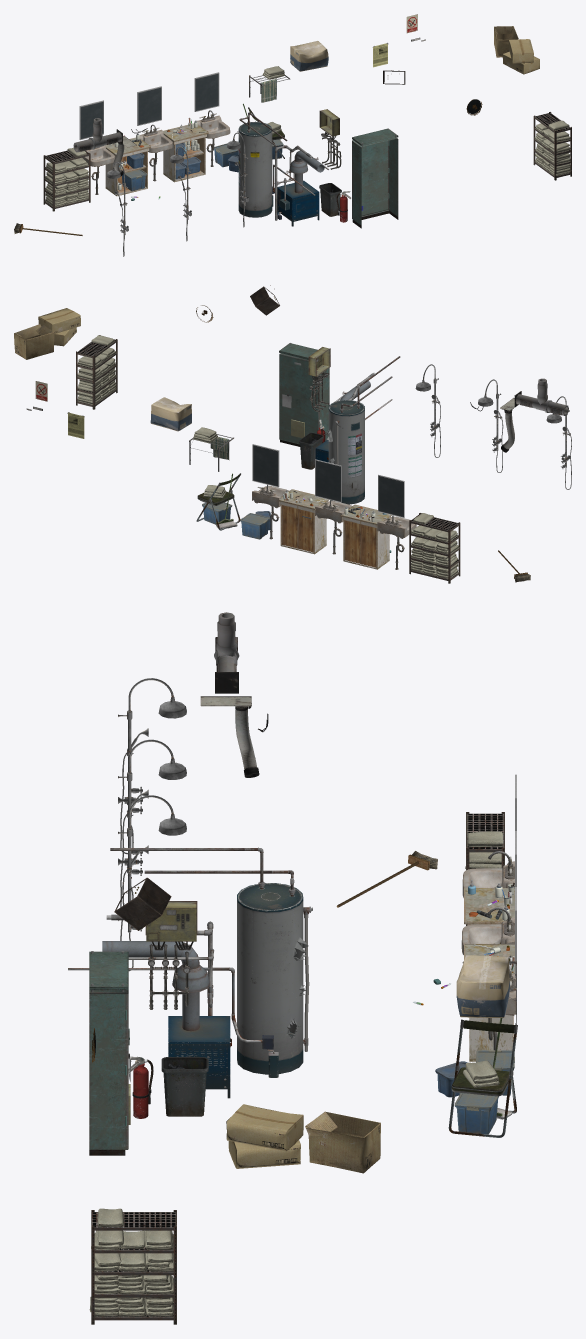
The model's file is sm301_01_403room_00.fbx.
3 renders of one model, top to bottom at view 1: azimuth 30°, elevation 25°; view 2: azimuth 150°, elevation 25°; view 3: azimuth 270°, elevation 25°, orthographic. The views are drawn at different scales.
Parts seen in each view (by area): view 1: 0127_sm22065Boiler02A00ms_1_Group_0_Sub_1__sm22_023_Boi_d06b, 0049_sm22021SwitchBox03A00ms_1_Group_0_Sub_1__sm22_021__cfdd, 0031_sm39049SteelRackSet01A00ms_1_Group_0_Sub_1__sm36_0_c9d2, 0128_sm30211Mirror01A00ms_1_Group_0_Sub_1__sm30_211_Mir_0ba9, 0063_sm30105KitchenStorage01B00ms_1_Group_0_Sub_1__sm30_2963, 0047_sm30091Steelrack01A00ms_1_Group_0_Sub_1__sm30_091__18cd, 0045_sm30089WashStand01A00ms_1_Group_0_Sub_1__sm30_089__a9ec, 0048_sm31030ShowerBath01A00ms_1_Group_0_Sub_1__sm31_030_9f4f, 0101_sm36003Cardboard02A00ms_1_Group_0_Sub_1__sm36_003__20c4, 0125_sm36004Cardboard03A00ms_1_Group_0_Sub_1__sm36_004__7cc7, 0035_sm30071Dustbox01A00ms_1_Group_0_Sub_1__sm30_071_Du_9d55, 0126_sm36002Cardboard01A00ms_1_Group_0_Sub_1__sm36_002__50cb (+8 smaller); view 2: 0063_sm30105KitchenStorage01B00ms_1_Group_0_Sub_1__sm30_2963, 0127_sm22065Boiler02A00ms_1_Group_0_Sub_1__sm22_023_Boi_d06b, 0049_sm22021SwitchBox03A00ms_1_Group_0_Sub_1__sm22_021__cfdd, 0031_sm39049SteelRackSet01A00ms_1_Group_0_Sub_1__sm36_0_c9d2, 0128_sm30211Mirror01A00ms_1_Group_0_Sub_1__sm30_211_Mir_0ba9, 0047_sm30091Steelrack01A00ms_1_Group_0_Sub_1__sm30_091__18cd, 0045_sm30089WashStand01A00ms_1_Group_0_Sub_1__sm30_089__a9ec, 0048_sm31030ShowerBath01A00ms_1_Group_0_Sub_1__sm31_030_9f4f, 0126_sm36002Cardboard01A00ms_1_Group_0_Sub_1__sm36_002__50cb, 0101_sm36003Cardboard02A00ms_1_Group_0_Sub_1__sm36_003__20c4, 0042_sm30074PlasticBox01A00ms_1_Group_0_Sub_1__sm30_074_9cb3, 0125_sm36004Cardboard03A00ms_1_Group_0_Sub_1__sm36_004__7cc7 (+6 smaller); view 3: 0127_sm22065Boiler02A00ms_1_Group_0_Sub_1__sm22_023_Boi_d06b, 0049_sm22021SwitchBox03A00ms_1_Group_0_Sub_1__sm22_021__cfdd, 0031_sm39049SteelRackSet01A00ms_1_Group_0_Sub_1__sm36_0_c9d2, 0047_sm30091Steelrack01A00ms_1_Group_0_Sub_1__sm30_091__18cd, 0125_sm36004Cardboard03A00ms_1_Group_0_Sub_1__sm36_004__7cc7, 0048_sm31030ShowerBath01A00ms_1_Group_0_Sub_1__sm31_030_9f4f, 0126_sm36002Cardboard01A00ms_1_Group_0_Sub_1__sm36_002__50cb, 0101_sm36003Cardboard02A00ms_1_Group_0_Sub_1__sm36_003__20c4, 0063_sm30105KitchenStorage01B00ms_1_Group_0_Sub_1__sm30_2963, 0045_sm30089WashStand01A00ms_1_Group_0_Sub_1__sm30_089__a9ec, 0035_sm30071Dustbox01A00ms_1_Group_0_Sub_1__sm30_071_Du_9d55, 0042_sm30074PlasticBox01A00ms_1_Group_0_Sub_1__sm30_074_9cb3 (+5 smaller).
Boxes of the visible parts, box(x1,y1,x2,y2) form: 0127_sm22065Boiler02A00ms_1_Group_0_Sub_1__sm22_023_Boi_d06b: box(237, 112, 328, 226); 0049_sm22021SwitchBox03A00ms_1_Group_0_Sub_1__sm22_021__cfdd: box(352, 128, 398, 228); 0031_sm39049SteelRackSet01A00ms_1_Group_0_Sub_1__sm36_0_c9d2: box(44, 120, 571, 206); 0128_sm30211Mirror01A00ms_1_Group_0_Sub_1__sm30_211_Mir_0ba9: box(79, 72, 219, 139); 0063_sm30105KitchenStorage01B00ms_1_Group_0_Sub_1__sm30_2963: box(105, 123, 208, 196); 0047_sm30091Steelrack01A00ms_1_Group_0_Sub_1__sm30_091__18cd: box(43, 112, 571, 211); 0045_sm30089WashStand01A00ms_1_Group_0_Sub_1__sm30_089__a9ec: box(82, 110, 230, 194); 0048_sm31030ShowerBath01A00ms_1_Group_0_Sub_1__sm31_030_9f4f: box(106, 132, 248, 256); 0101_sm36003Cardboard02A00ms_1_Group_0_Sub_1__sm36_003__20c4: box(290, 41, 328, 71); 0125_sm36004Cardboard03A00ms_1_Group_0_Sub_1__sm36_004__7cc7: box(502, 39, 539, 74); 0035_sm30071Dustbox01A00ms_1_Group_0_Sub_1__sm30_071_Du_9d55: box(319, 183, 341, 216); 0126_sm36002Cardboard01A00ms_1_Group_0_Sub_1__sm36_002__50cb: box(494, 26, 518, 57); 0063_sm30105KitchenStorage01B00ms_1_Group_0_Sub_1__sm30_2963: box(279, 489, 391, 569); 0127_sm22065Boiler02A00ms_1_Group_0_Sub_1__sm22_023_Boi_d06b: box(315, 356, 400, 504); 0049_sm22021SwitchBox03A00ms_1_Group_0_Sub_1__sm22_021__cfdd: box(279, 343, 329, 446); 0031_sm39049SteelRackSet01A00ms_1_Group_0_Sub_1__sm36_0_c9d2: box(77, 335, 459, 578); 0128_sm30211Mirror01A00ms_1_Group_0_Sub_1__sm30_211_Mir_0ba9: box(252, 444, 404, 517); 0047_sm30091Steelrack01A00ms_1_Group_0_Sub_1__sm30_091__18cd: box(76, 335, 460, 583); 0045_sm30089WashStand01A00ms_1_Group_0_Sub_1__sm30_089__a9ec: box(252, 484, 416, 569); 0048_sm31030ShowerBath01A00ms_1_Group_0_Sub_1__sm31_030_9f4f: box(415, 364, 571, 489); 0126_sm36002Cardboard01A00ms_1_Group_0_Sub_1__sm36_002__50cb: box(14, 324, 54, 359); 0101_sm36003Cardboard02A00ms_1_Group_0_Sub_1__sm36_003__20c4: box(150, 397, 191, 431); 0042_sm30074PlasticBox01A00ms_1_Group_0_Sub_1__sm30_074_9cb3: box(202, 502, 269, 539); 0125_sm36004Cardboard03A00ms_1_Group_0_Sub_1__sm36_004__7cc7: box(38, 308, 80, 346); 0127_sm22065Boiler02A00ms_1_Group_0_Sub_1__sm22_023_Boi_d06b: box(68, 847, 312, 1098); 0049_sm22021SwitchBox03A00ms_1_Group_0_Sub_1__sm22_021__cfdd: box(89, 951, 131, 1155); 0031_sm39049SteelRackSet01A00ms_1_Group_0_Sub_1__sm36_0_c9d2: box(89, 831, 503, 1316); 0047_sm30091Steelrack01A00ms_1_Group_0_Sub_1__sm30_091__18cd: box(91, 812, 504, 1324); 0125_sm36004Cardboard03A00ms_1_Group_0_Sub_1__sm36_004__7cc7: box(226, 1104, 303, 1168); 0048_sm31030ShowerBath01A00ms_1_Group_0_Sub_1__sm31_030_9f4f: box(118, 678, 186, 971); 0126_sm36002Cardboard01A00ms_1_Group_0_Sub_1__sm36_002__50cb: box(305, 1111, 380, 1173); 0101_sm36003Cardboard02A00ms_1_Group_0_Sub_1__sm36_003__20c4: box(456, 955, 509, 1017); 0063_sm30105KitchenStorage01B00ms_1_Group_0_Sub_1__sm30_2963: box(464, 888, 514, 1061); 0045_sm30089WashStand01A00ms_1_Group_0_Sub_1__sm30_089__a9ec: box(461, 851, 516, 1050); 0035_sm30071Dustbox01A00ms_1_Group_0_Sub_1__sm30_071_Du_9d55: box(161, 1057, 208, 1116); 0042_sm30074PlasticBox01A00ms_1_Group_0_Sub_1__sm30_074_9cb3: box(454, 1050, 514, 1134).
Bounding box in the file's own units: 12.67 × 3.53 × 5.07.
